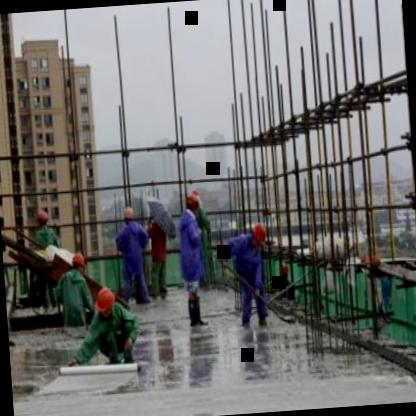helmet: (90, 284, 122, 326), (247, 215, 269, 252), (68, 248, 90, 281), (182, 190, 201, 218), (34, 205, 50, 228), (121, 205, 136, 225)
